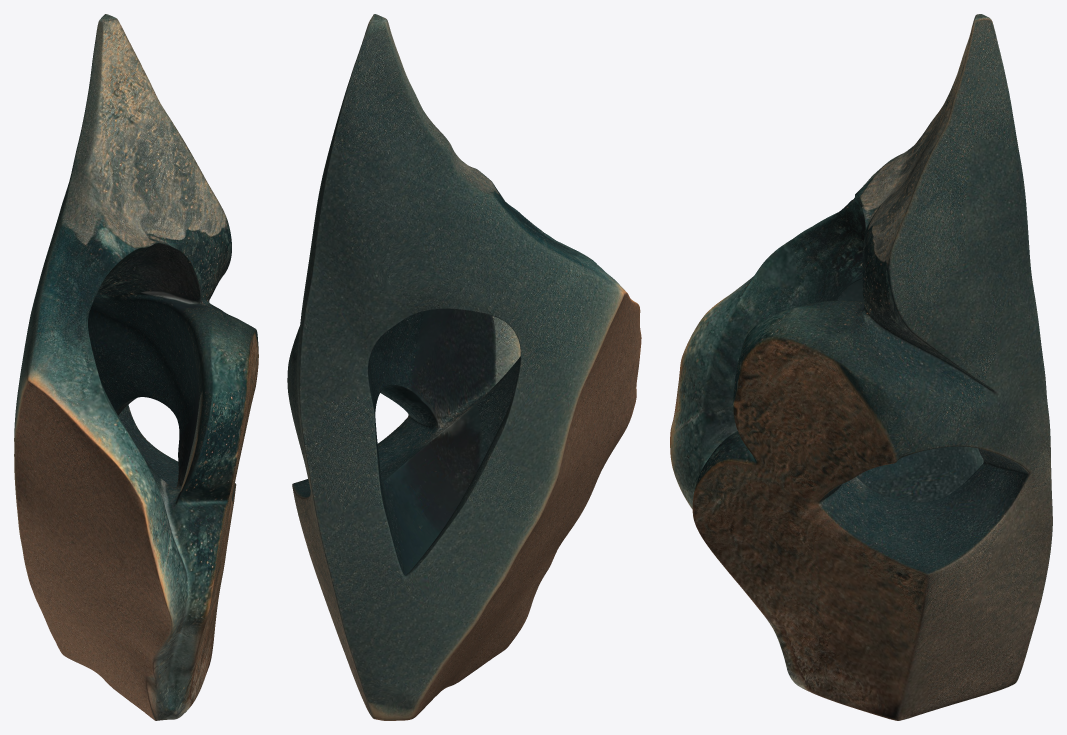
File: protection-spirit-uploaded-v1.glb
The picture shows the model from 3 angles, left to right: view 1: azimuth 30°, elevation 25°; view 2: azimuth 150°, elevation 25°; view 3: azimuth 270°, elevation 25°; orthographic projection. The views are drawn at different scales.
Bounding box in the file's own units: 0.8189 × 1.9 × 0.9728.
1 material, 1 textured.
